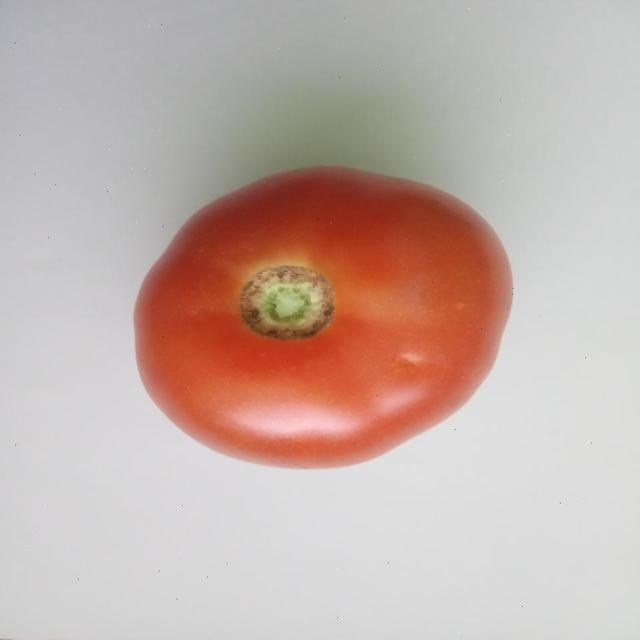Healthy Fruit: (85, 109, 346, 319)
